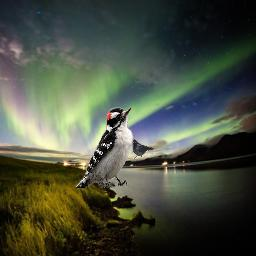Crow: (130, 139, 154, 159)
Woodpecker: (77, 108, 134, 189)
